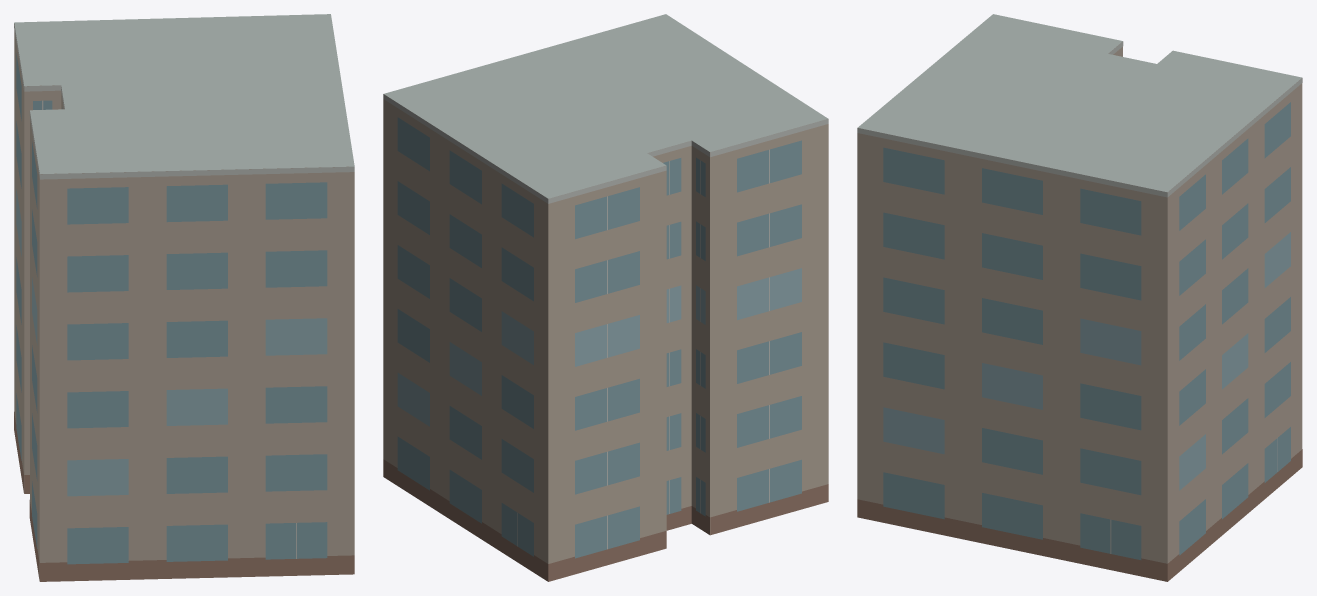
File: survey-upis-32887590.glb
3 views of the same model, side by side, from view 1: azimuth 30°, elevation 25°; view 2: azimuth 150°, elevation 25°; view 3: azimuth 270°, elevation 25° (orthographic). The views are drawn at different scales.
Parts seen in each view (by area): view 1: survey-upis-32887590.tmp; view 2: survey-upis-32887590.tmp; view 3: survey-upis-32887590.tmp.
Boxes of the visible parts, <box> form: survey-upis-32887590.tmp: <box>14,14,354,581</box>; survey-upis-32887590.tmp: <box>383,14,828,581</box>; survey-upis-32887590.tmp: <box>857,14,1302,581</box>.
Bounding box in the file's own units: 17.97 × 18.3 × 18.95.
